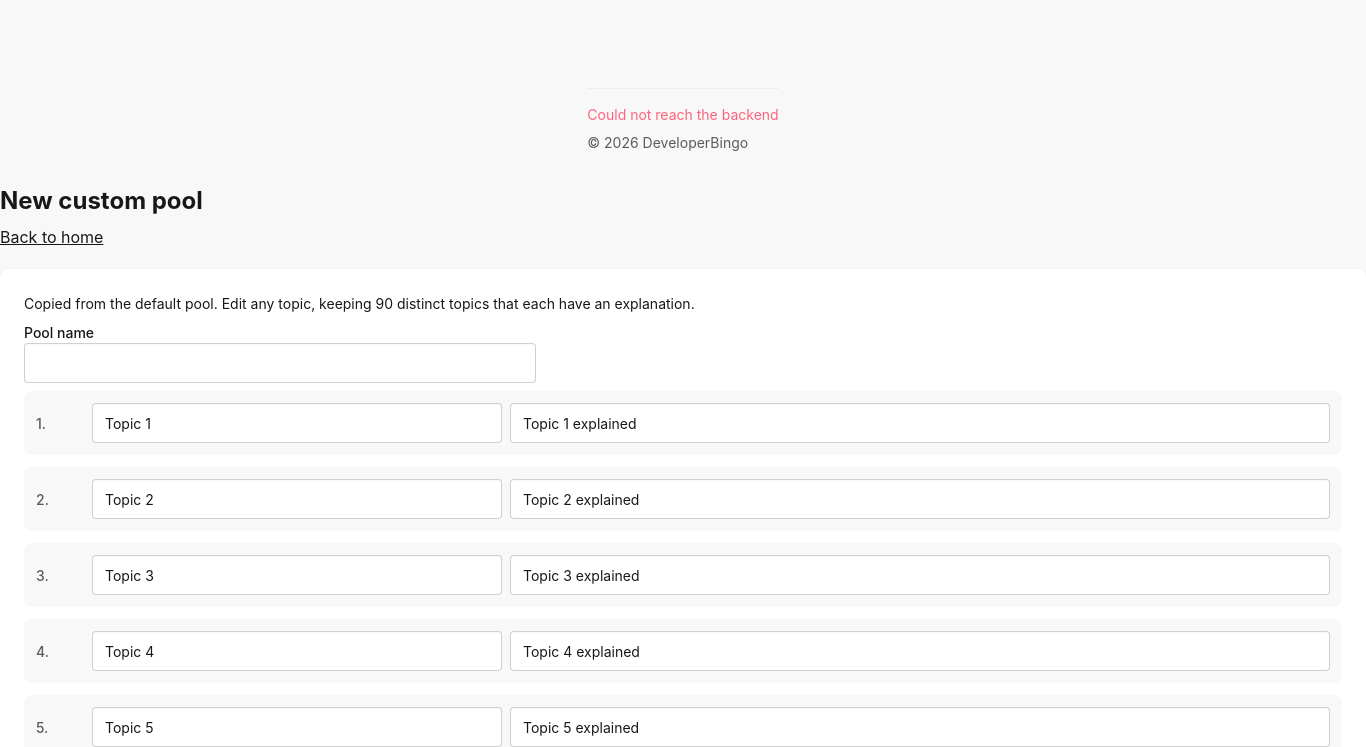
Test: PoolEditorView › shows the rule that broke when the pool is refused
(page scrolled)
Type "Mine" into the field with test id "pool-name".
click(280, 363); type("Mine")  # box [24, 343, 536, 383]
(page scrolled)
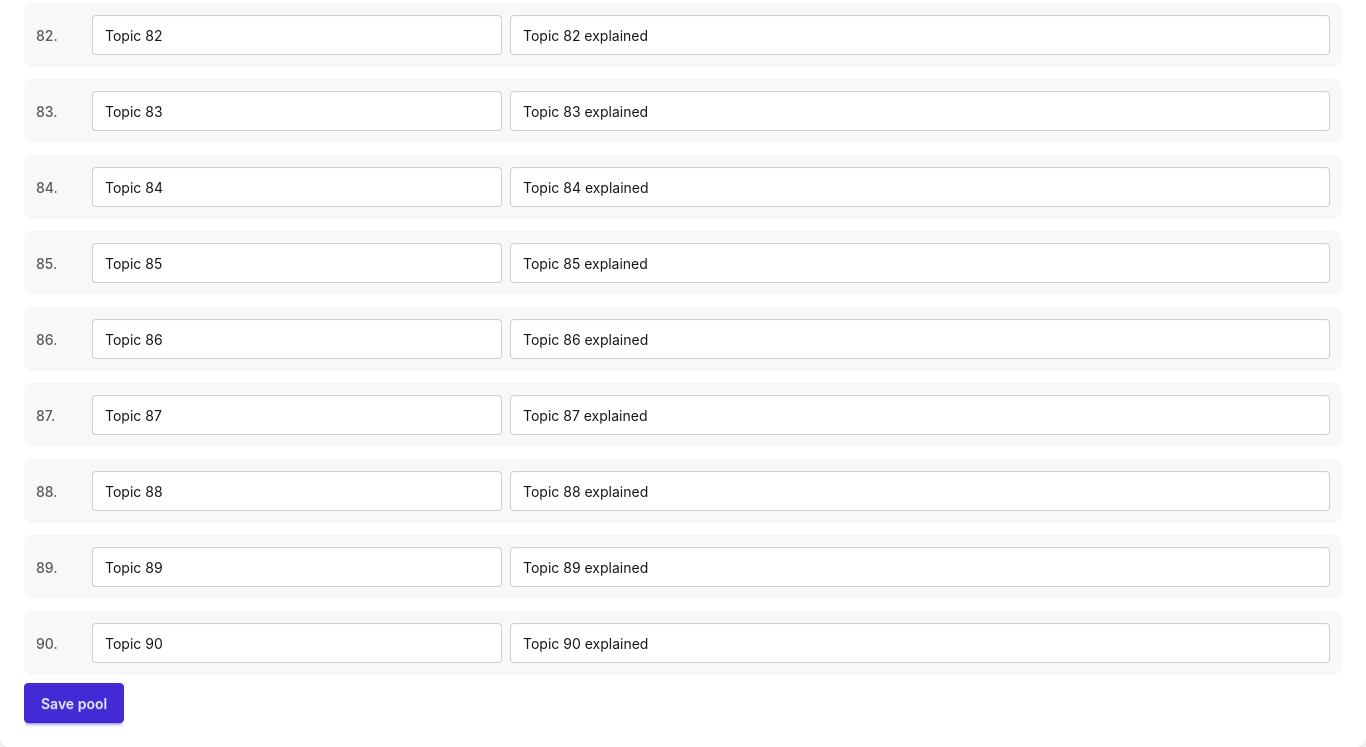
Click the button with test id "save-pool".
click(74, 703)  # box [24, 683, 124, 723]
(page scrolled)
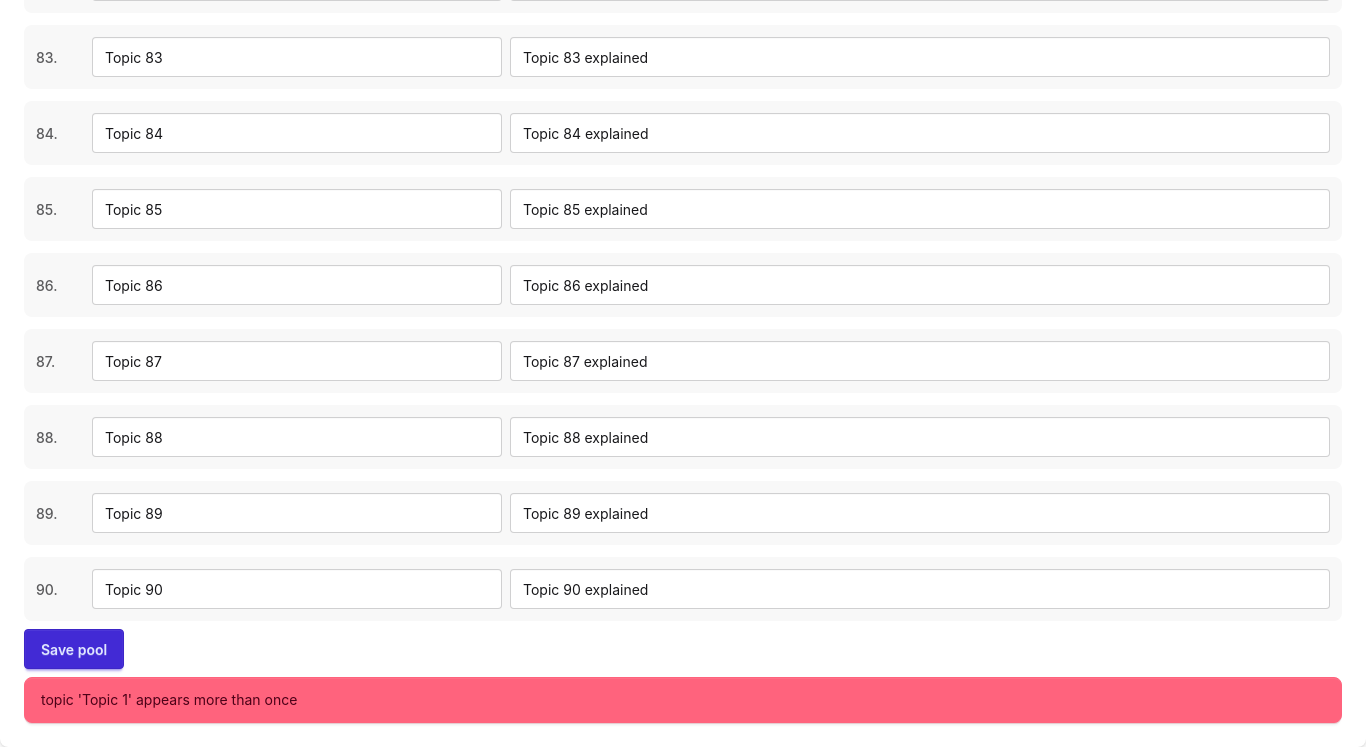
Now the message "topic 'Topic 1' appears more than once" is shown, box [24, 677, 1342, 723]
